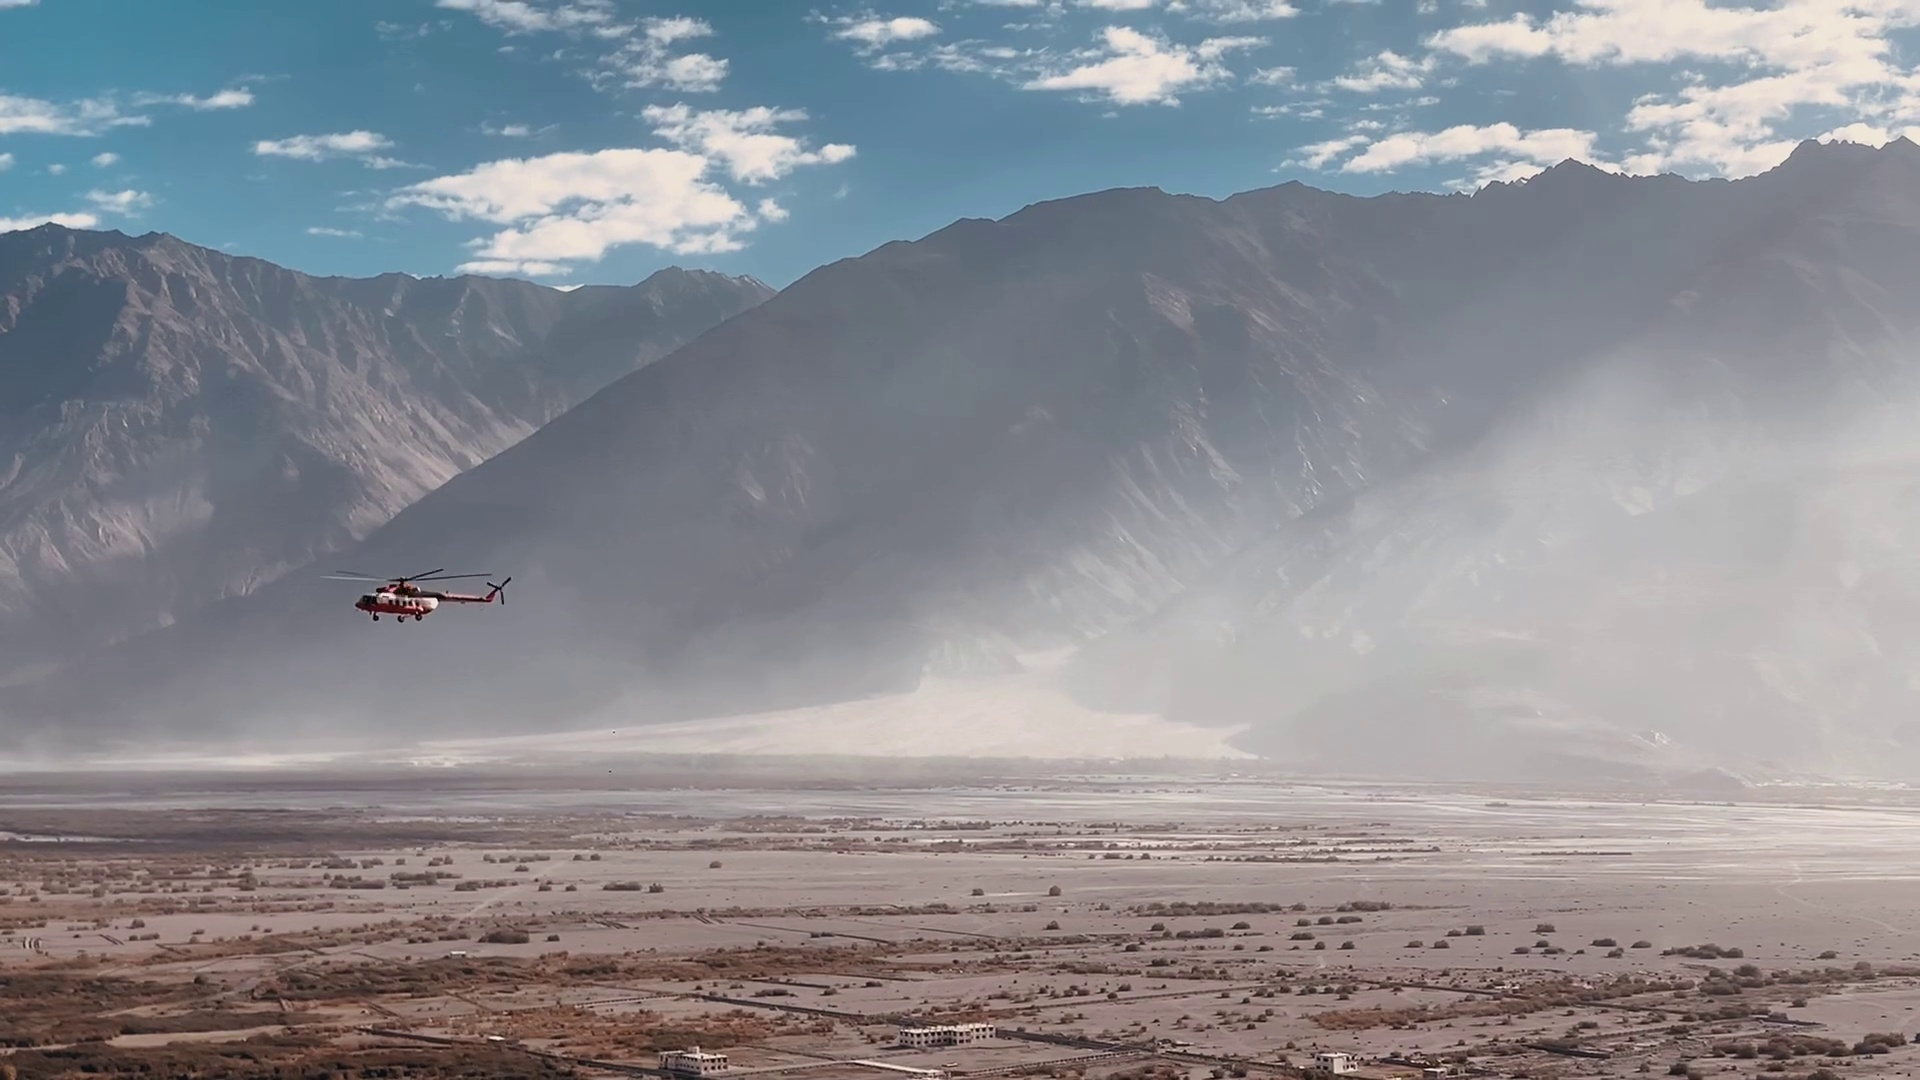heli: (315, 568, 512, 622)
